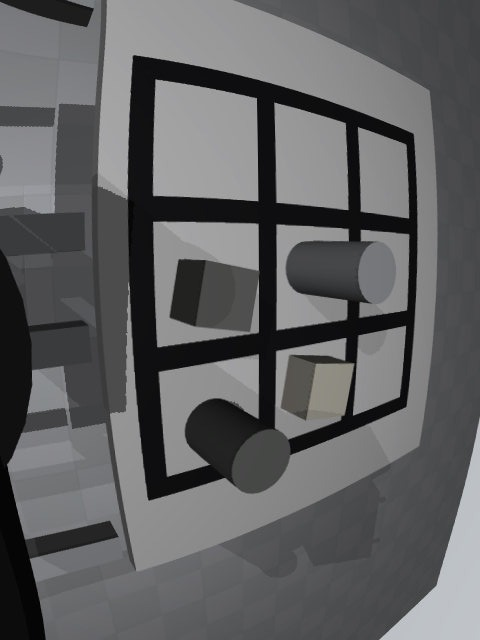can: (286, 241, 396, 304)
cube: (170, 259, 260, 332)
cylinder: (185, 398, 290, 494)
foam: (280, 355, 354, 421)
